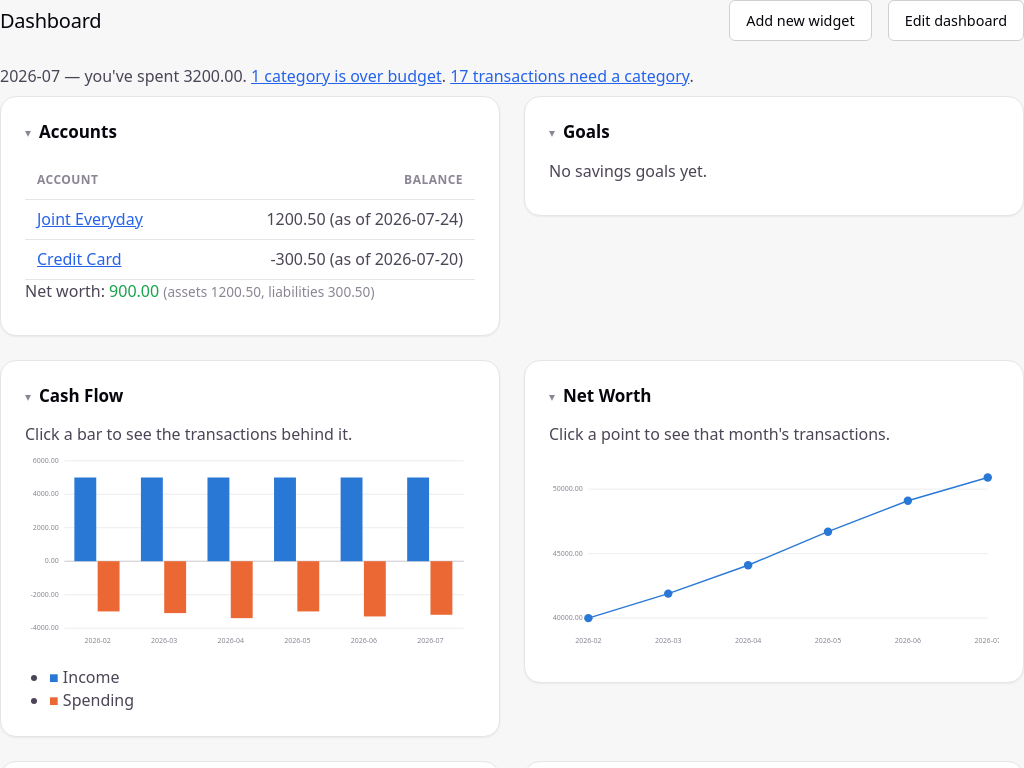
DashboardPage › Adding a widget › opens and closes the add-widget form
Expected: the heading "▾ Accounts" is shown, [25,121,475,144]
Step 1. Click the button "Add new widget" → {"x": 800, "y": 21}, box [729,0,872,41]
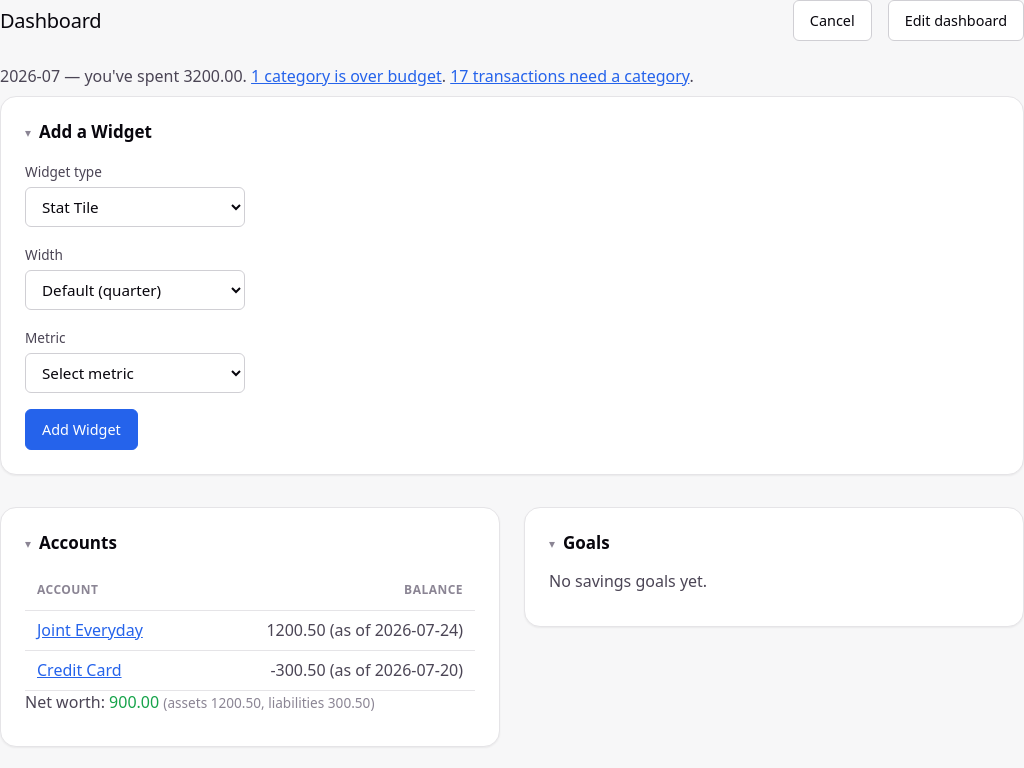
Now the heading "▾ Add a Widget" is shown, box [25,121,999,144]
Step 2. Click the button "Cancel" → {"x": 832, "y": 21}, box [793,0,872,41]
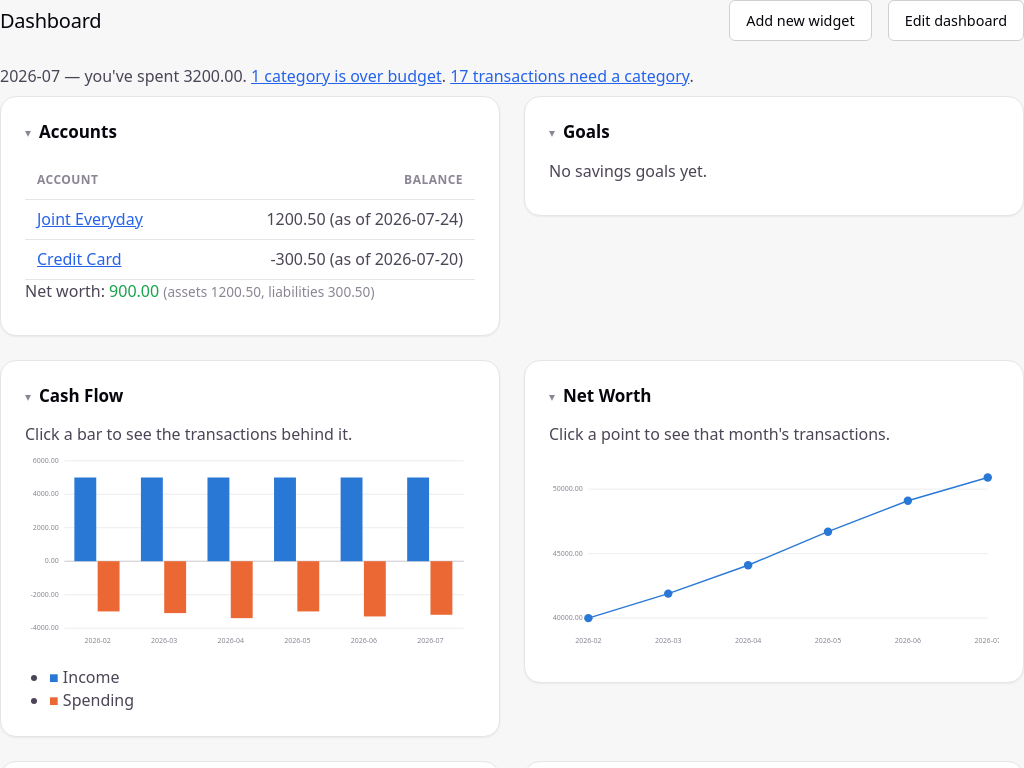
Now the button "Add a Widget" is gone
